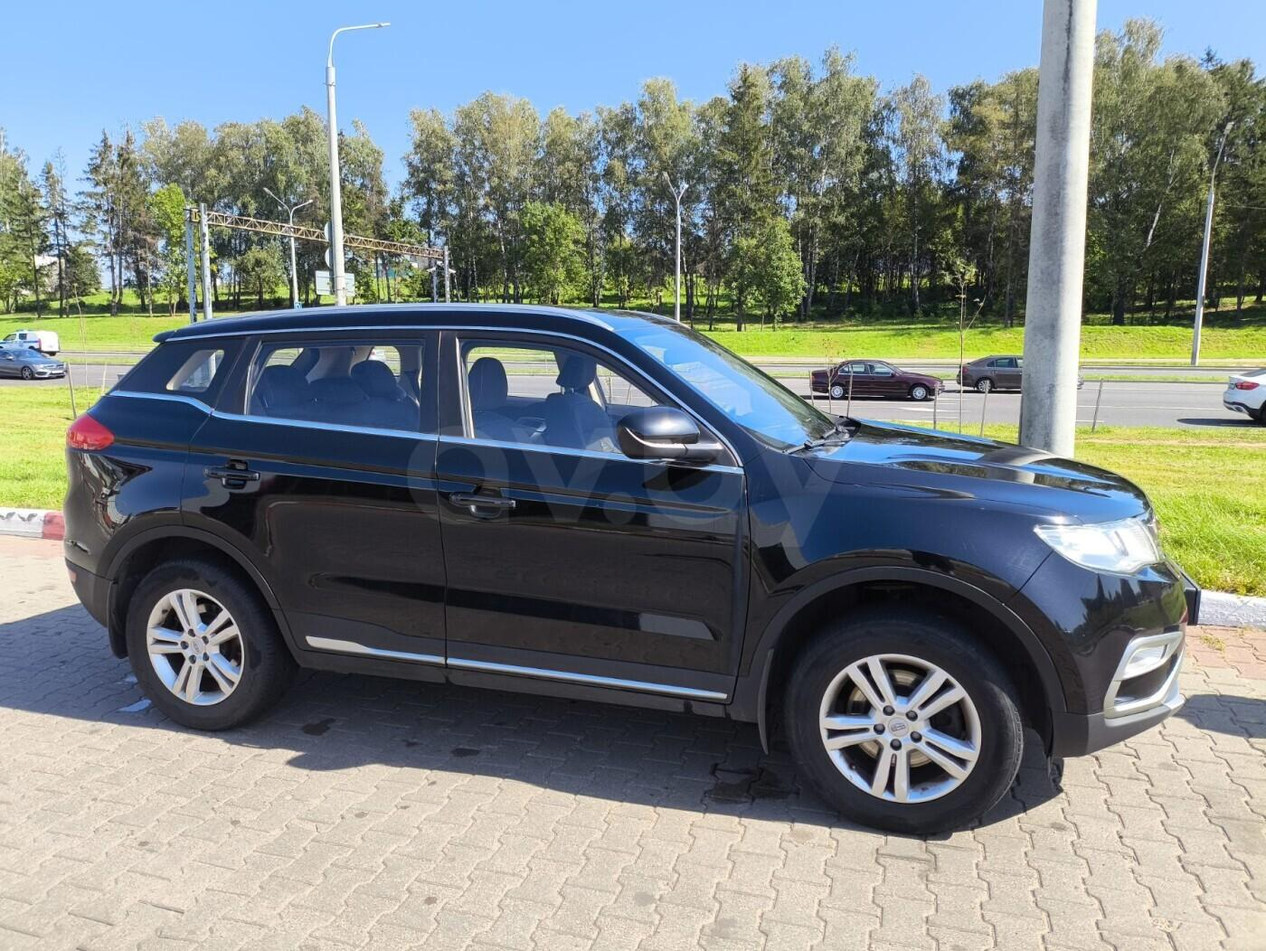Atlas_2016-2023: (61, 301, 1205, 841)
